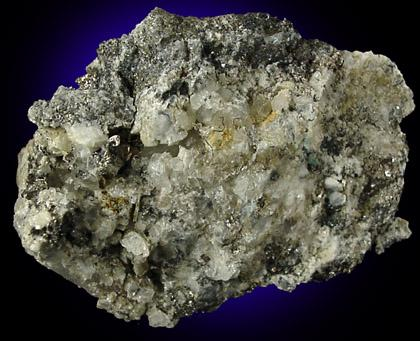silver: (28, 9, 336, 132), (360, 141, 413, 254)
